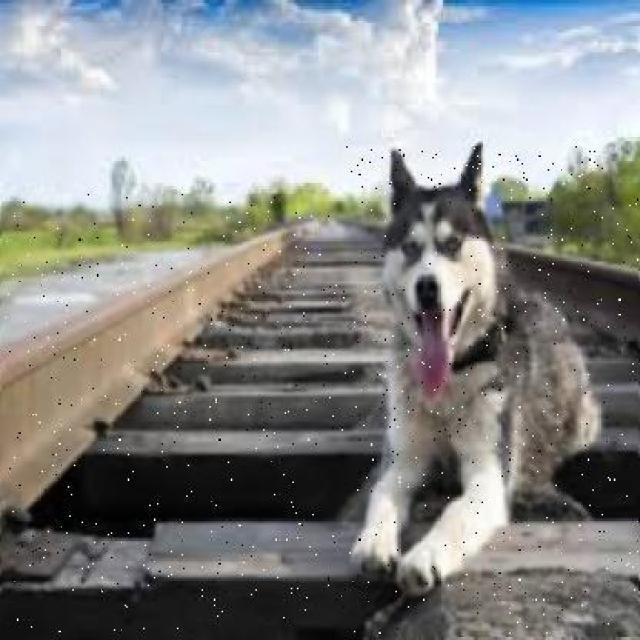danger: (343, 147, 612, 593)
rail: (3, 195, 638, 634)
